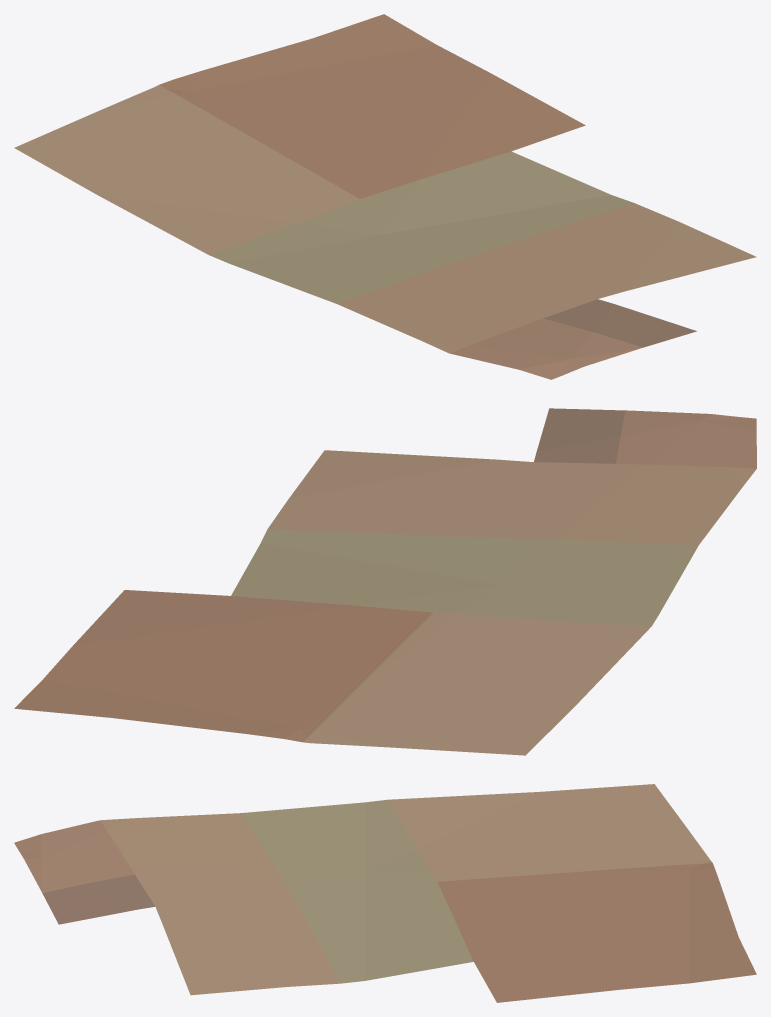
The model's file is farm_-27_-42_soil.glb.
The picture shows the model from 3 angles, top to bottom: view 1: azimuth 30°, elevation 25°; view 2: azimuth 150°, elevation 25°; view 3: azimuth 270°, elevation 25°; orthographic projection. The views are drawn at different scales.
Visible parts, largest first — view 1: geometry_0; view 2: geometry_0; view 3: geometry_0.
Boxes of the visible parts, x1,y1,x2,y2 form: geometry_0: (14, 14, 756, 379); geometry_0: (14, 408, 756, 755); geometry_0: (14, 784, 756, 1002).
Size of the model in its own units: 115 by 8.18 by 183.
